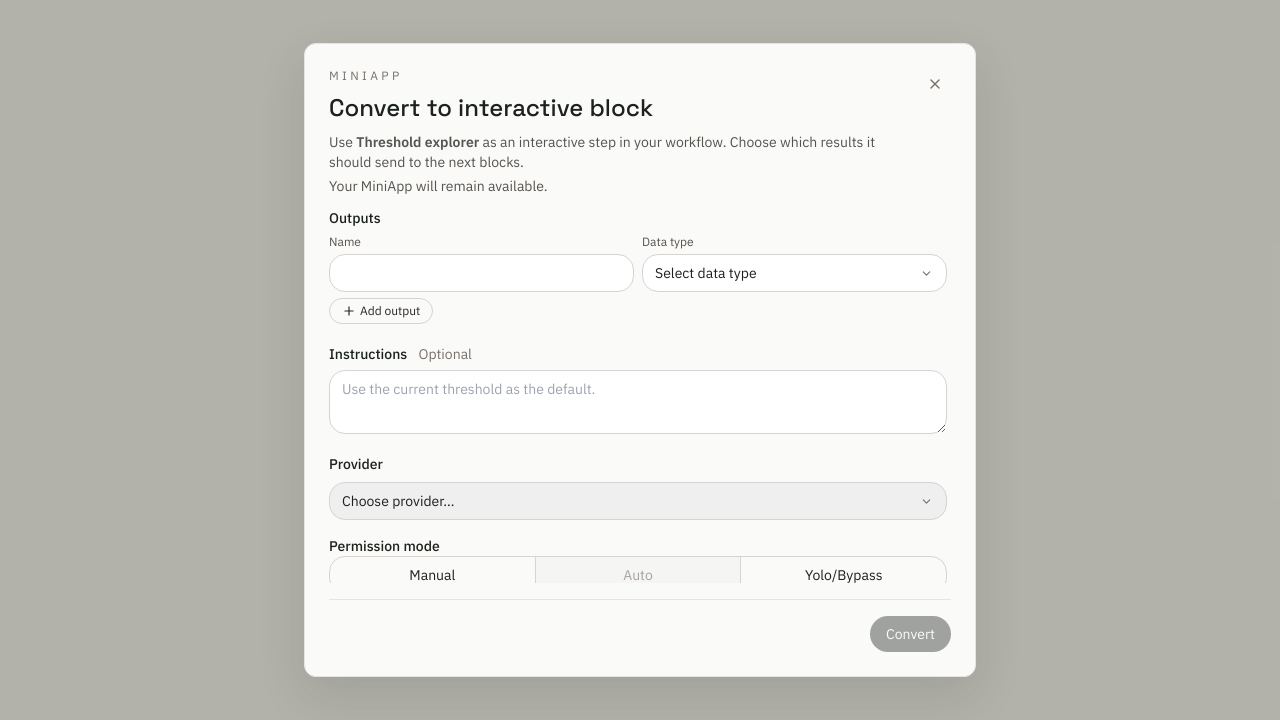
Test: ConvertToBlockDialog (ADR-054 FR-036) › starts with no provider or permission mode chosen and waits for both
Expected: the dropdown with test id "setup-provider-select" is enabled, left=329, top=482, right=947, bottom=520
In the field with test id "miniapp-convert-name-0": (482, 273) left=329, top=254, right=634, bottom=292, type "mask"
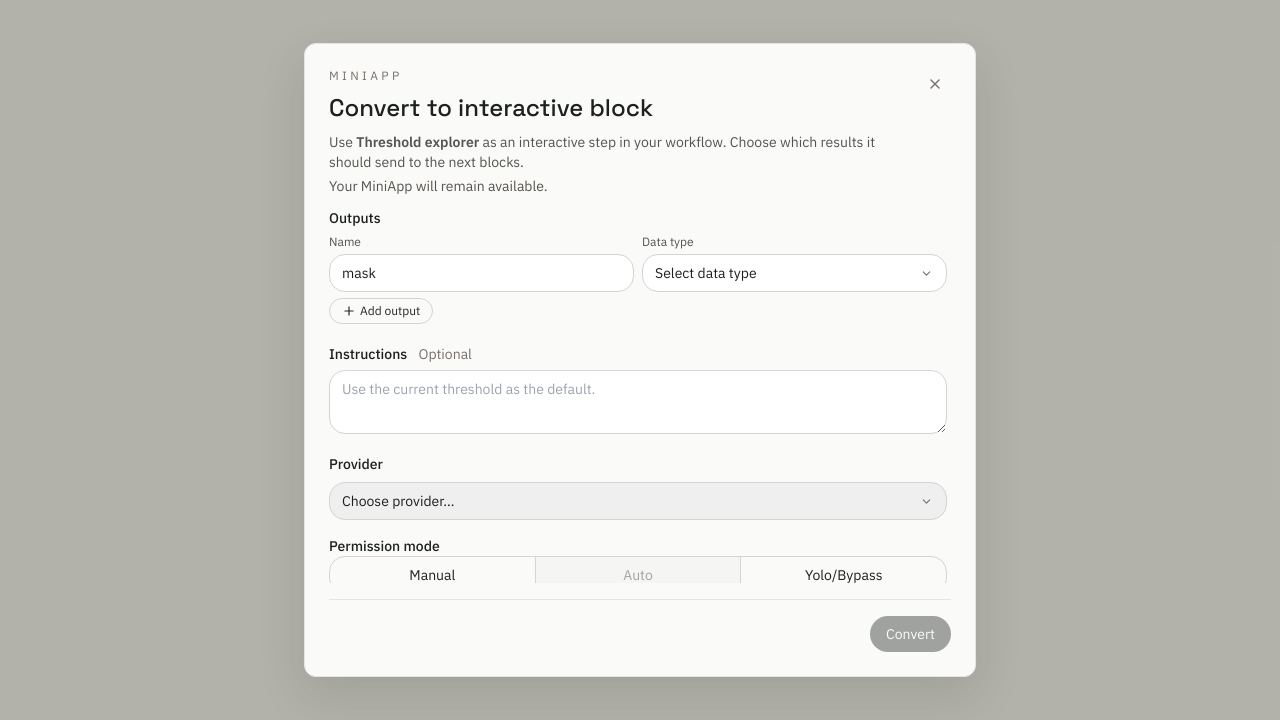
Select "Mask" in the dropdown with test id "miniapp-convert-type-0": (794, 273) left=642, top=254, right=947, bottom=292
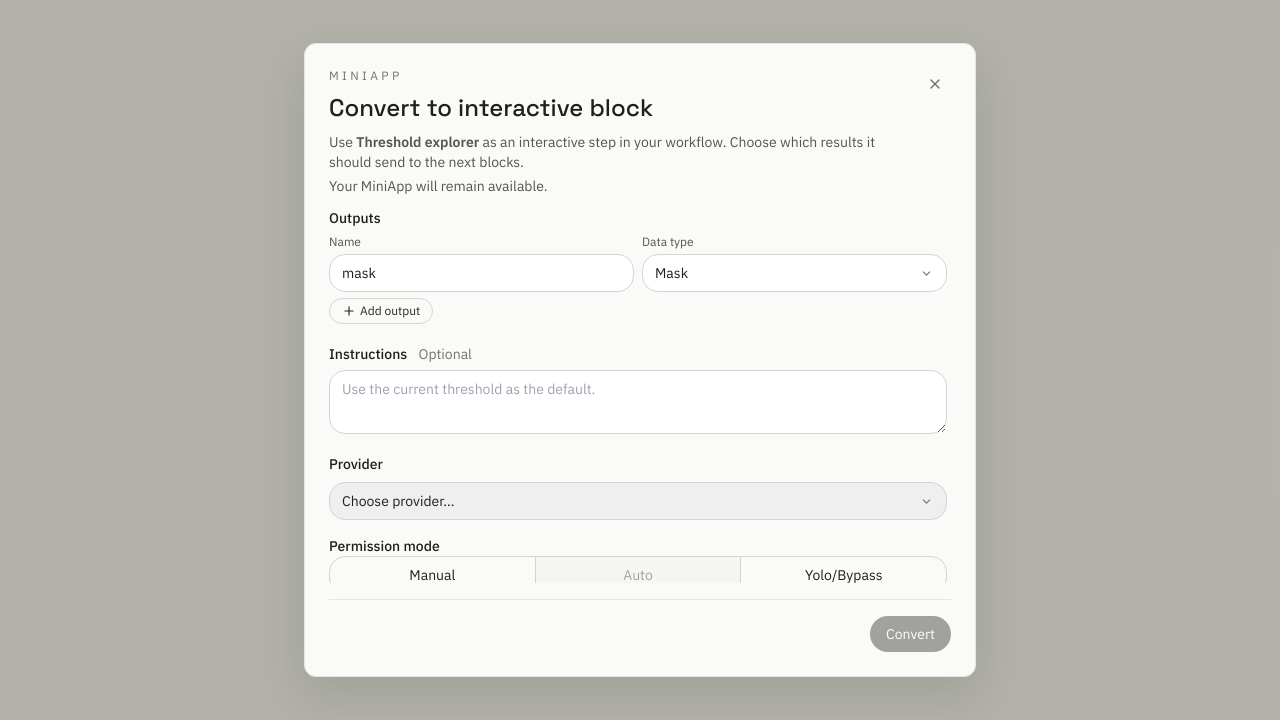
Expected: the button with test id "miniapp-convert-submit" is disabled, left=870, top=616, right=951, bottom=652
Select "Claude Code v9.9.9" in the dropdown with test id "setup-provider-select": (638, 501) left=329, top=482, right=947, bottom=520
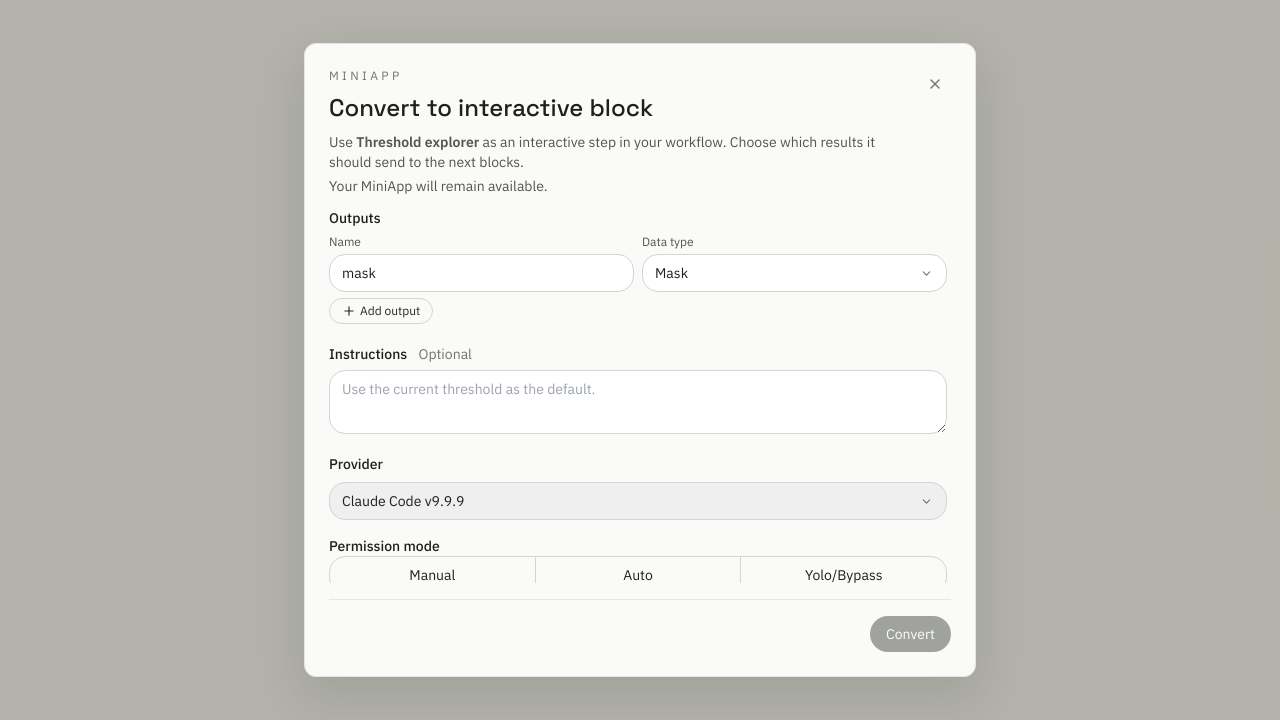
Expected: the button with test id "miniapp-convert-submit" is disabled, left=870, top=616, right=951, bottom=652
Click the radio button with test id "setup-permission-safe": click(432, 575) left=330, top=557, right=535, bottom=593
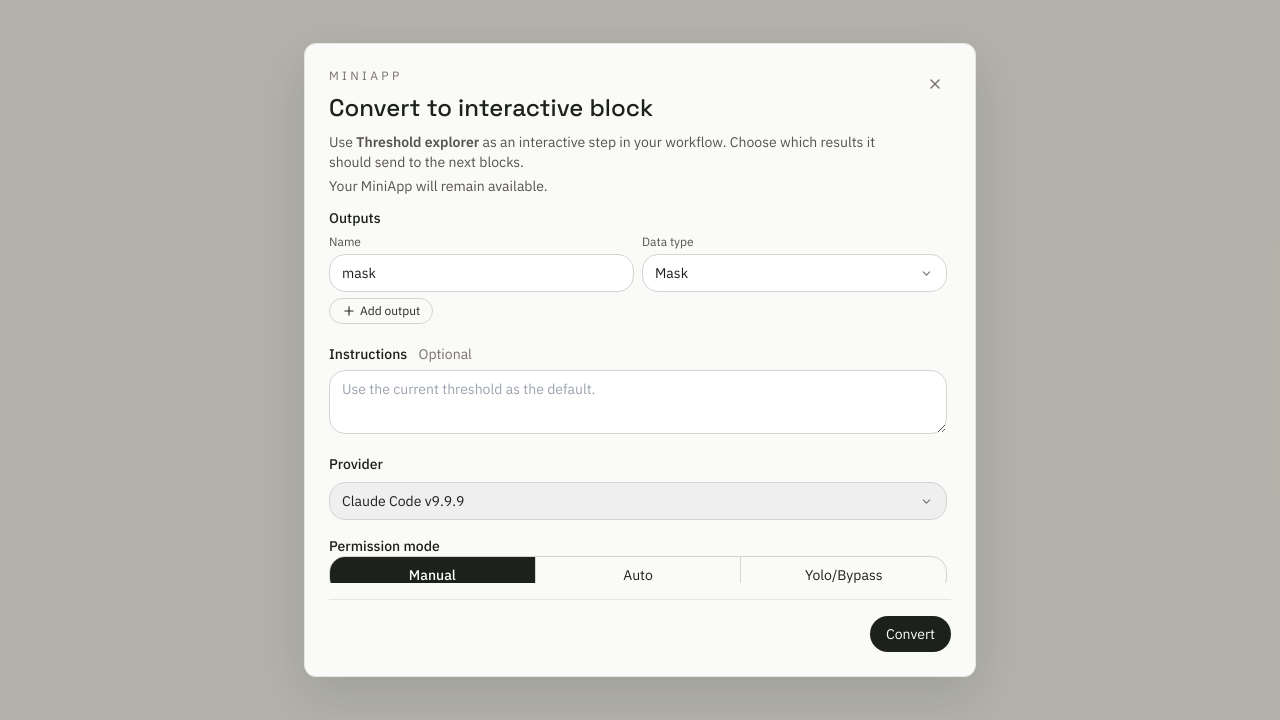
Expected: the button with test id "miniapp-convert-submit" is enabled, left=870, top=616, right=951, bottom=652
